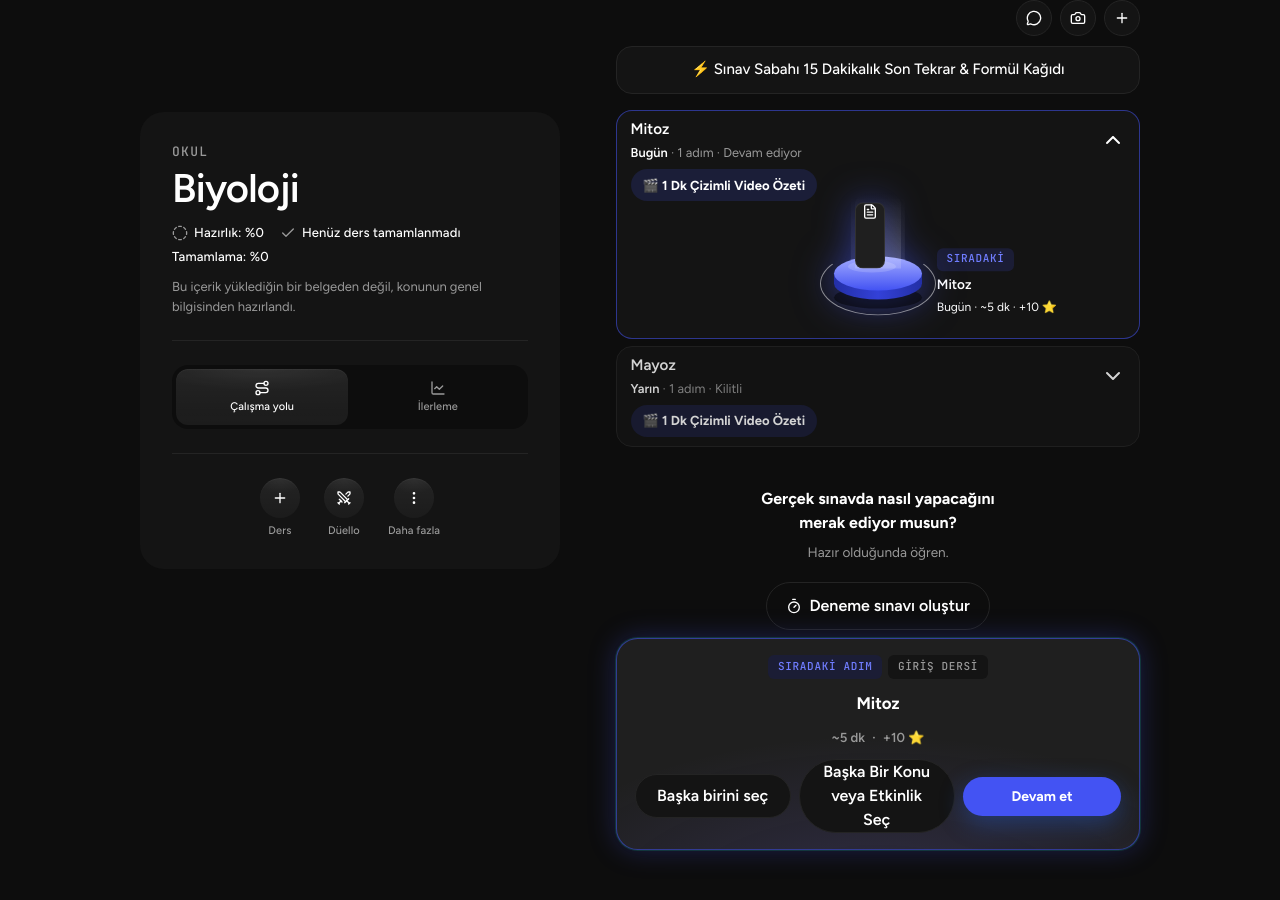
Scenario: study tools hub regression › keeps every existing activity for a biology topic that only has a lesson node
Click the button with aria-label "Hazırlık seçenekleri" at coordinates (414, 508), box top-left (388, 478), bottom-right (440, 538)
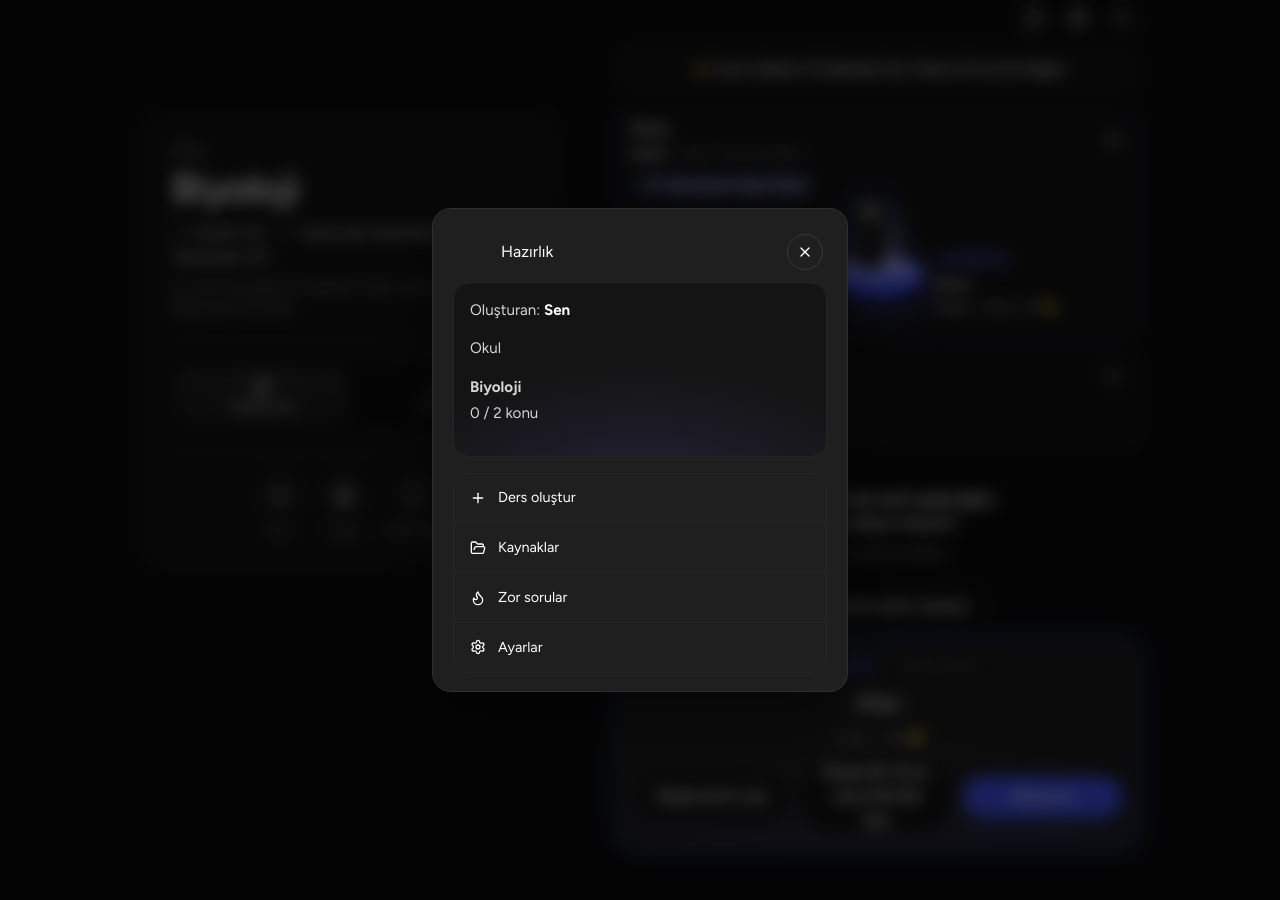
Click the button "Ders oluştur" at coordinates (537, 497), box top-left (454, 474), bottom-right (826, 522)
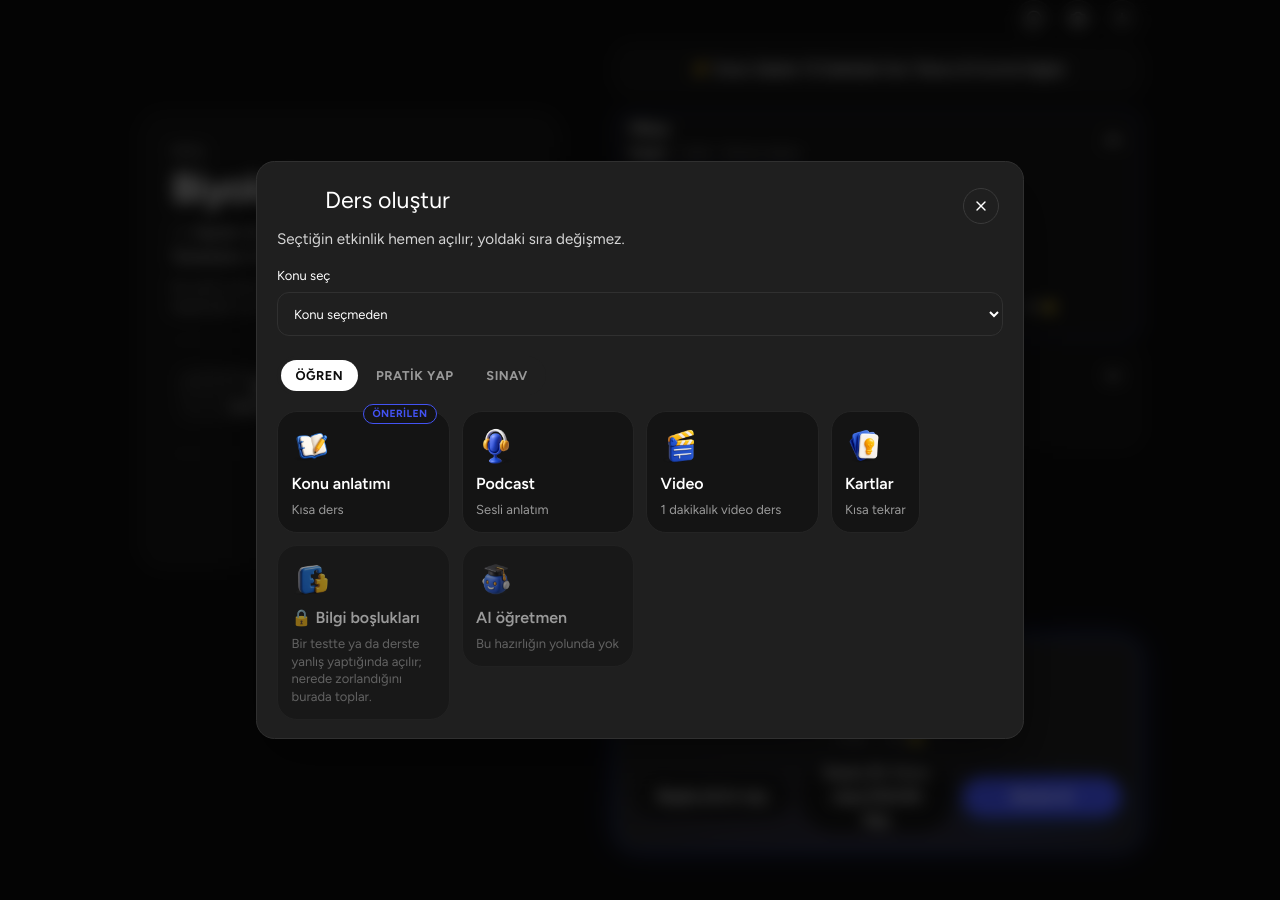
Select "Mitoz" in the dropdown labelled "Konu seç" at coordinates (640, 314), box top-left (277, 292), bottom-right (1003, 336)
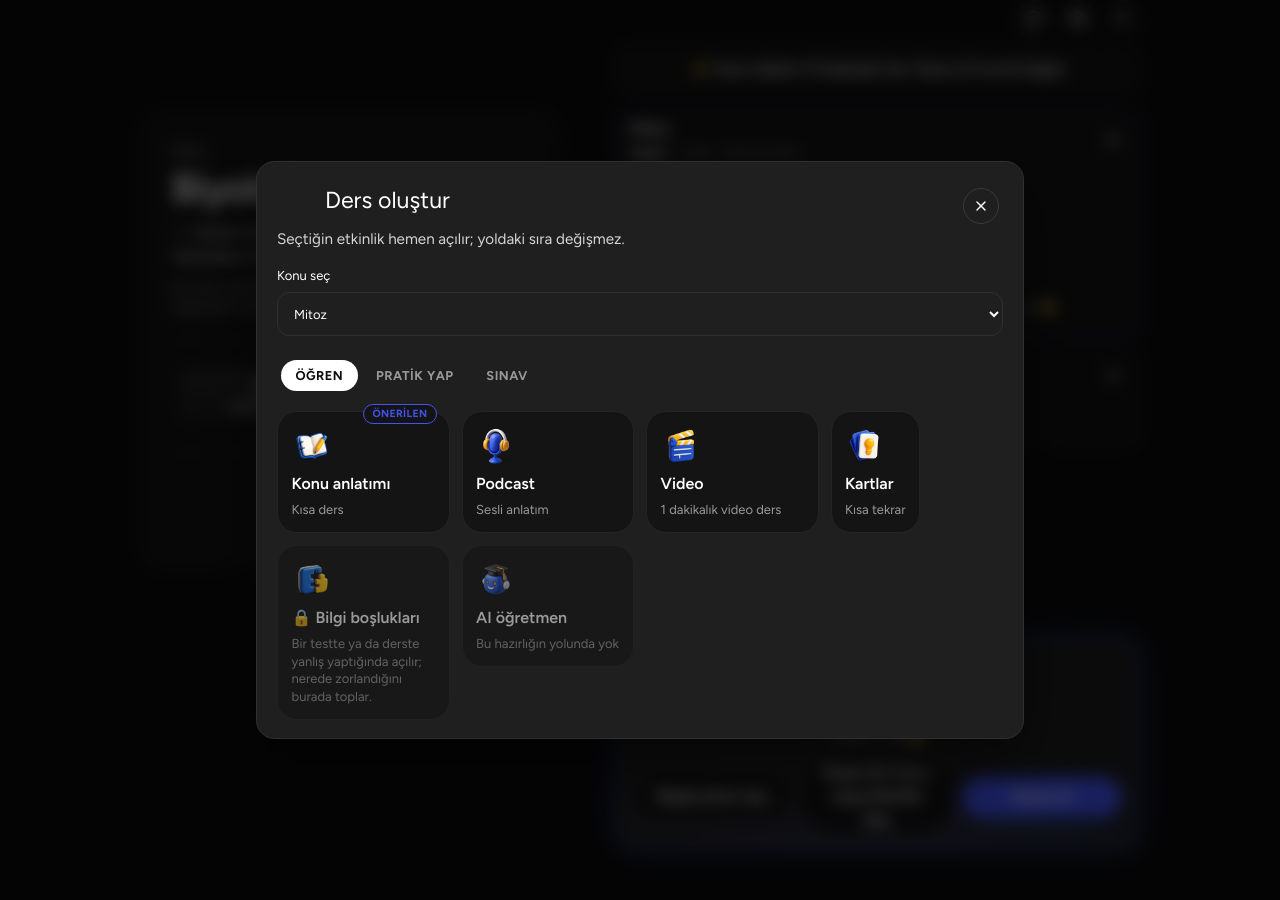
Click the tab "Sınav" at coordinates (507, 376), box top-left (472, 360), bottom-right (542, 392)
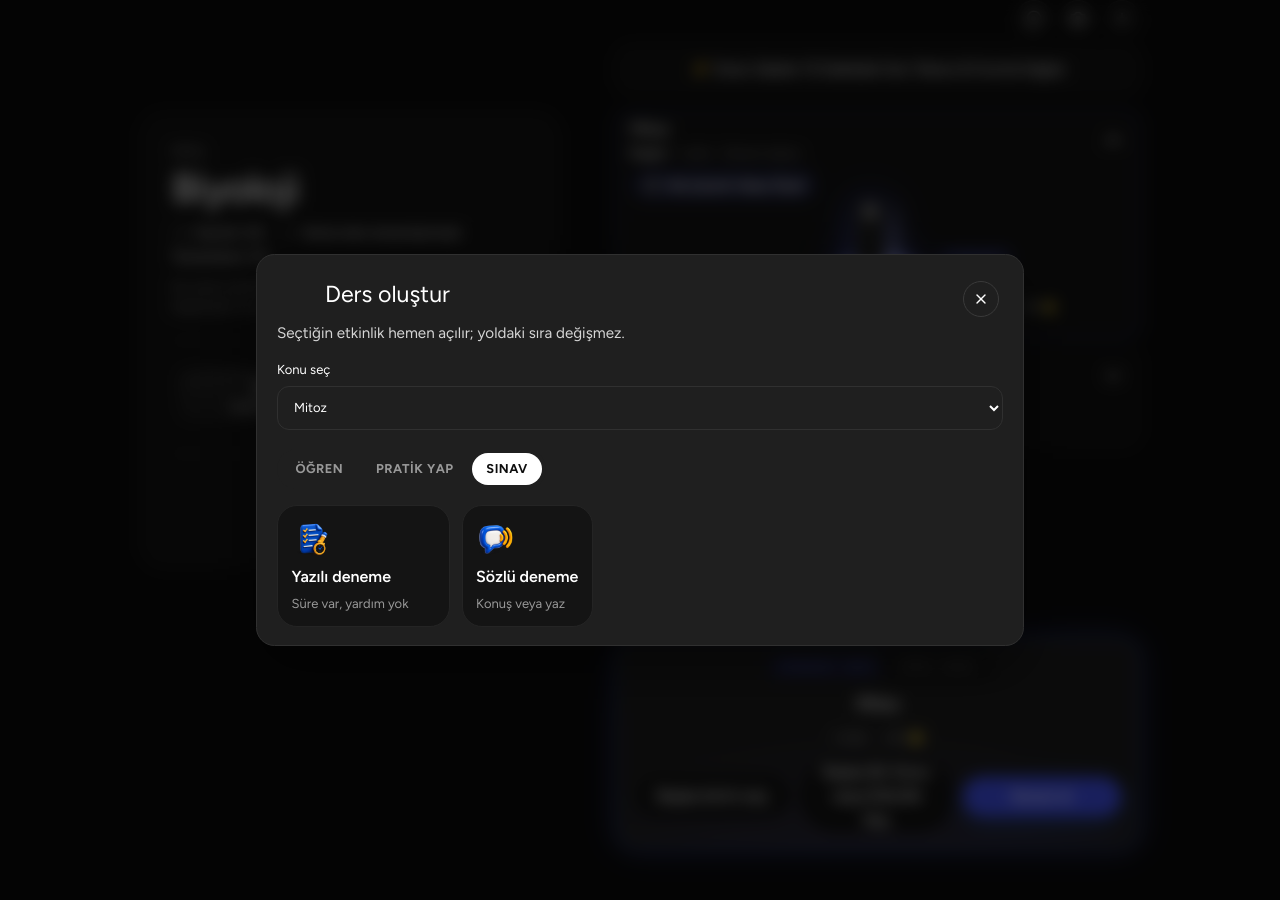
Result: the button "Sözlü deneme Konuş veya yaz" is shown at top-left (462, 505), bottom-right (593, 627)
